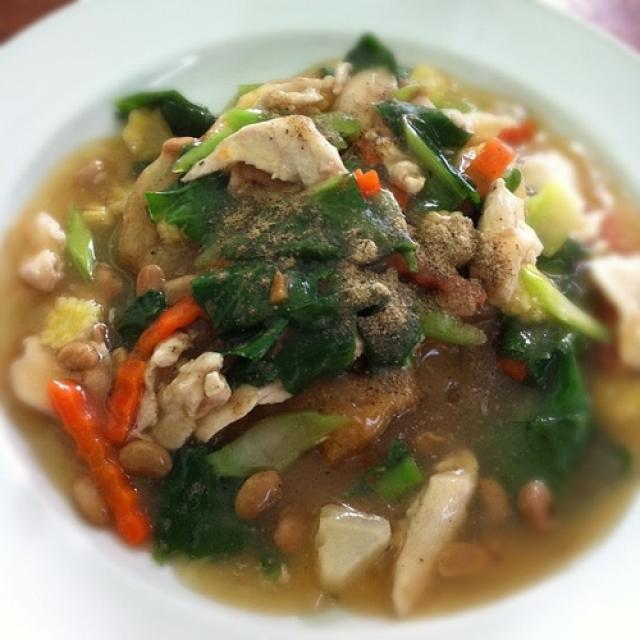面条主食: (36, 50, 603, 564)
